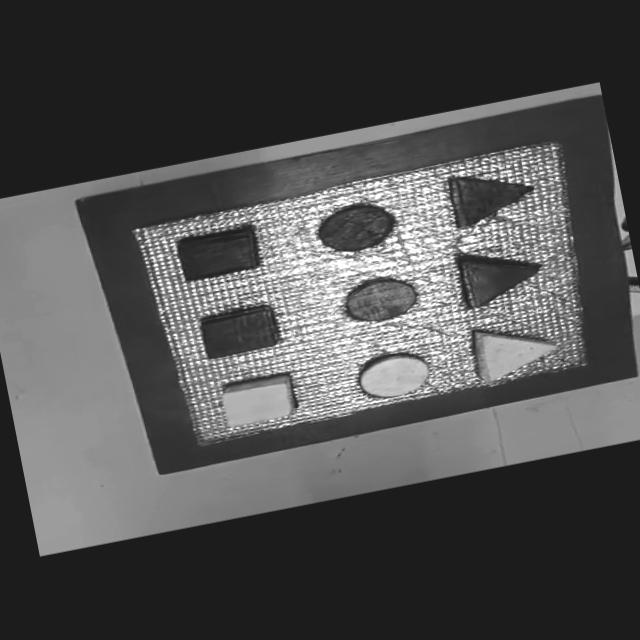bcircle: (315, 200, 400, 258)
bcube: (175, 225, 262, 283)
btriangle: (446, 163, 538, 230)
rcircle: (346, 278, 416, 321)
rcube: (197, 305, 280, 361)
rtriangle: (460, 256, 538, 306)
wb: (125, 137, 594, 452)
ycircle: (358, 352, 429, 397)
ycube: (221, 374, 294, 427)
ytriangle: (472, 331, 555, 382)
